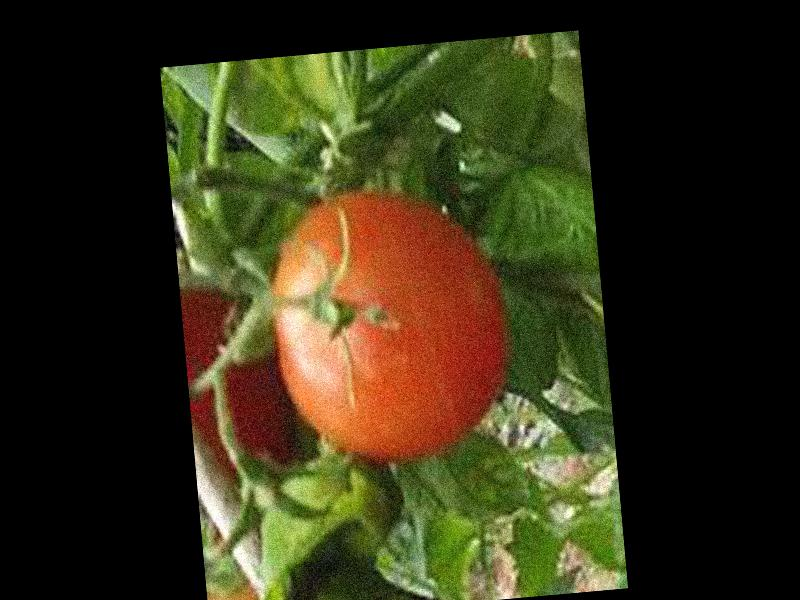Tomato: (262, 183, 510, 466)
